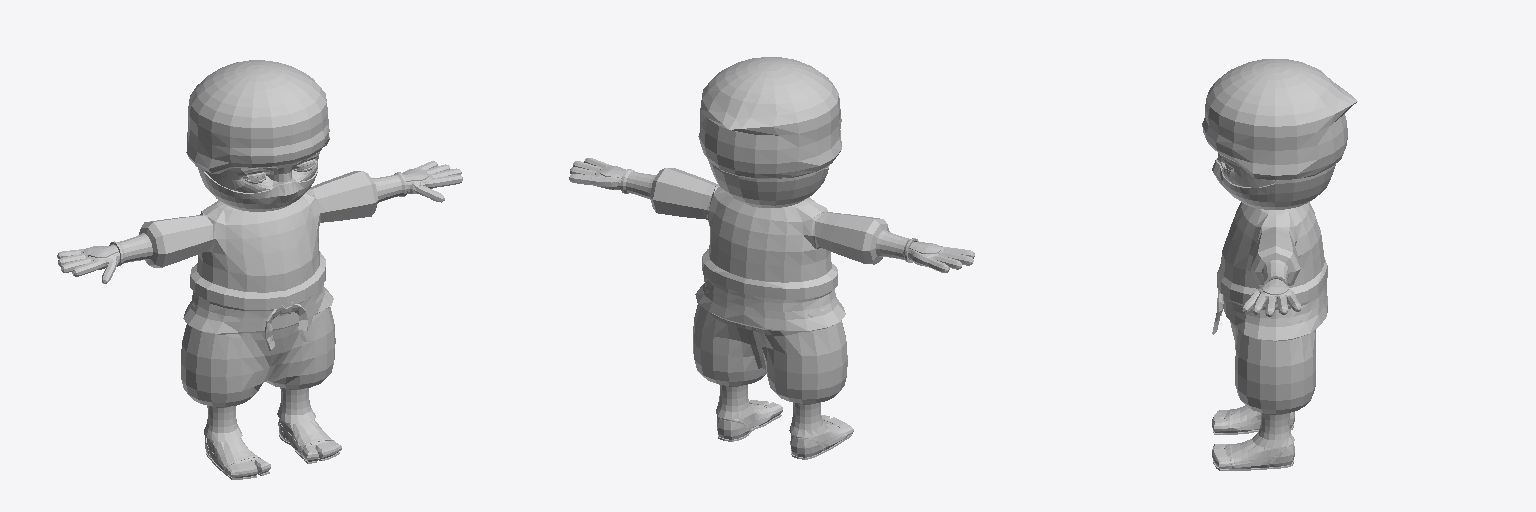
The model's file is Mini_Ninja.obj.
3 renders of one model, left to right at view 1: azimuth 30°, elevation 25°; view 2: azimuth 150°, elevation 25°; view 3: azimuth 270°, elevation 25°, orthographic.
Visible parts, largest first — view 1: Mini_Ninja; view 2: Mini_Ninja; view 3: Mini_Ninja.
Part boxes in pixels (x1,y1,x2,y2): Mini_Ninja: (57, 60, 462, 479); Mini_Ninja: (569, 57, 974, 459); Mini_Ninja: (1202, 59, 1357, 470).
Bounding box in the file's own units: 40.58 × 36.55 × 13.65.